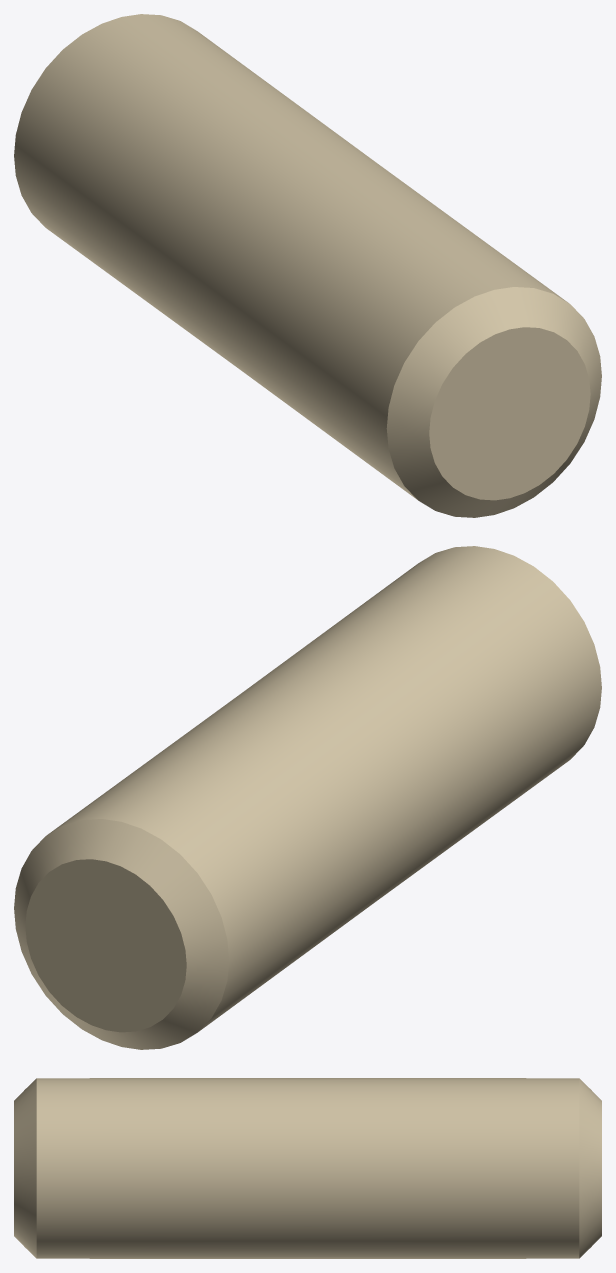
File: Stift.glb
The picture shows the model from 3 angles, top to bottom: view 1: azimuth 30°, elevation 25°; view 2: azimuth 150°, elevation 25°; view 3: azimuth 270°, elevation 25°; orthographic projection. The views are drawn at different scales.
Visible parts, largest first — view 1: Body1; view 2: Body1; view 3: Body1.
Boxes of the visible parts, x1,y1,x2,y2 form: Body1: (14,14,601,517); Body1: (14,546,601,1049); Body1: (14,1078,601,1258).
Size of the model in its own units: 0.004 by 0.004 by 0.013.
